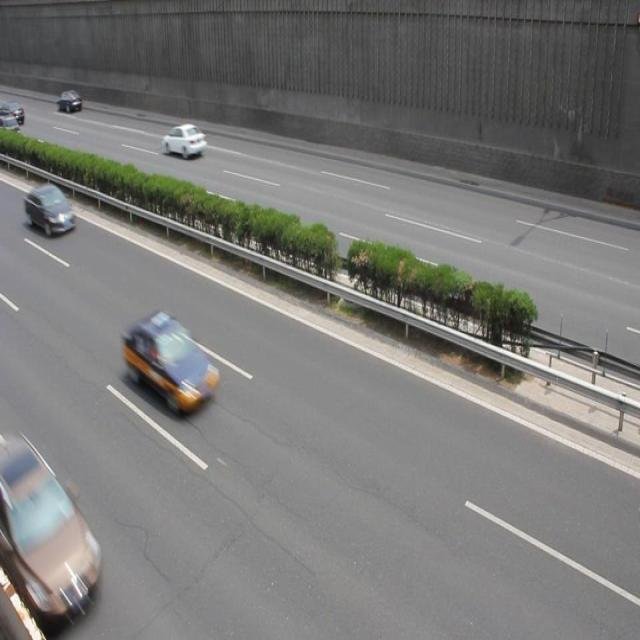car: (123, 313, 222, 415), (24, 183, 78, 237), (162, 122, 207, 159)
